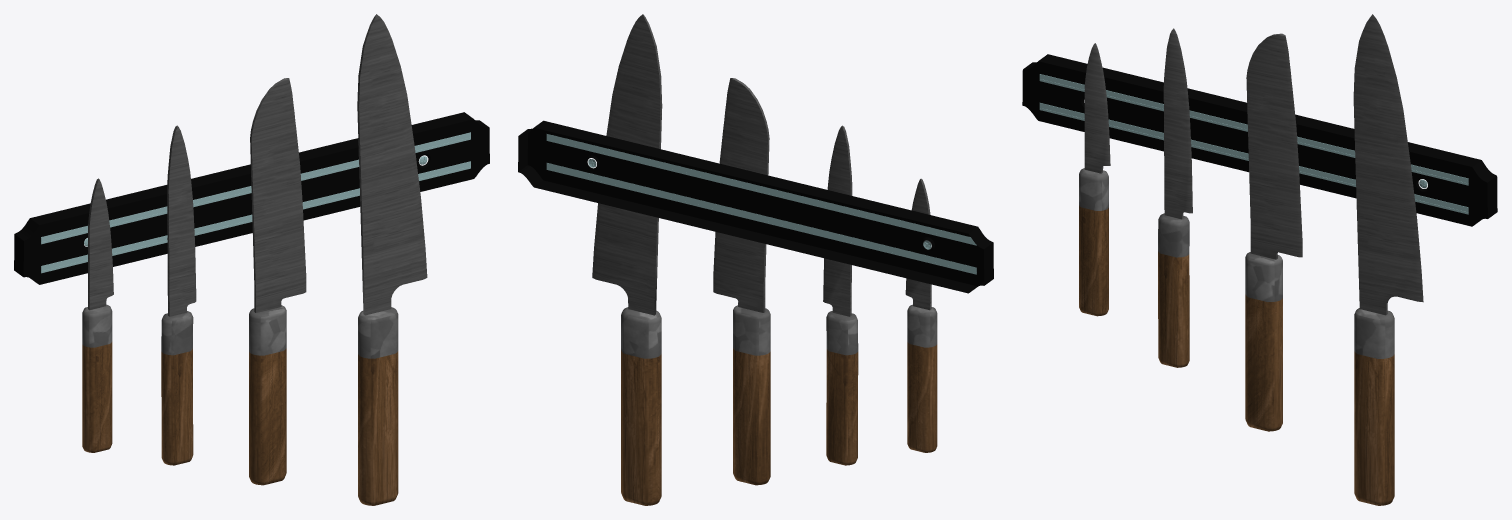
The model's file is KnifeHolster.fbx.
3 views of the same model, side by side, from view 1: azimuth 30°, elevation 25°; view 2: azimuth 150°, elevation 25°; view 3: azimuth 330°, elevation 25° (orthographic).
Parts seen in each view (by area): view 1: Knife4, KnifeHolster, Knife3, Knife2, Knife1; view 2: KnifeHolster, Knife4, Knife3, Knife2, Knife1; view 3: Knife4, KnifeHolster, Knife3, Knife2, Knife1.
Boxes of the visible parts, x1,y1,x2,y2 form: Knife4: (357,14,427,505); KnifeHolster: (14,112,489,284); Knife3: (249,78,306,485); Knife2: (161,125,196,465); Knife1: (82,178,113,452); KnifeHolster: (518,120,993,293); Knife4: (592,14,662,505); Knife3: (713,78,770,485); Knife2: (823,125,858,465); Knife1: (905,178,937,452); Knife4: (1353,14,1423,505); KnifeHolster: (1022,54,1497,226); Knife3: (1245,33,1302,431); Knife2: (1158,28,1192,367); Knife1: (1079,43,1110,316).
Bounding box in the file's own units: 2.32 × 35.89 × 35.91.
1 material, 1 textured.
